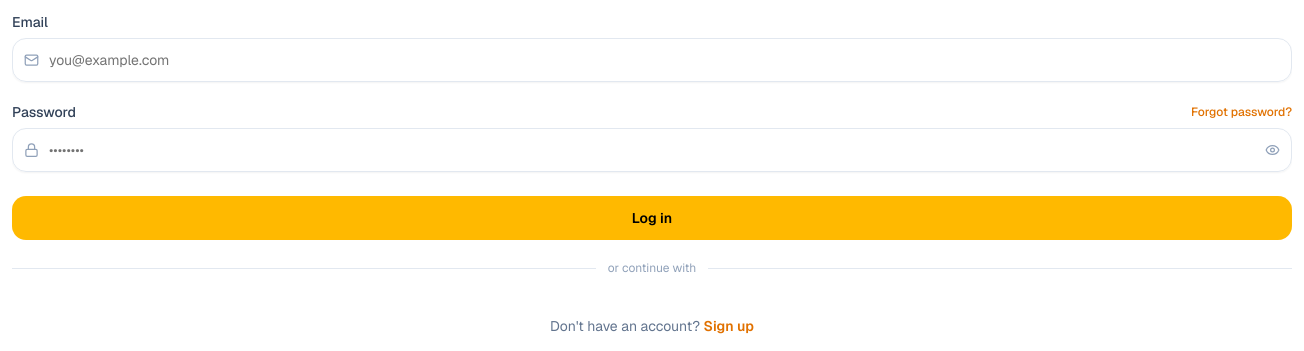
LoginForm › Log in button is disabled while form is submitting
The width and height of the screenshot is (1304, 351).
Type "user@test.com" into the field labelled "Email" at coordinates (652, 60), box [12,38,1292,82]
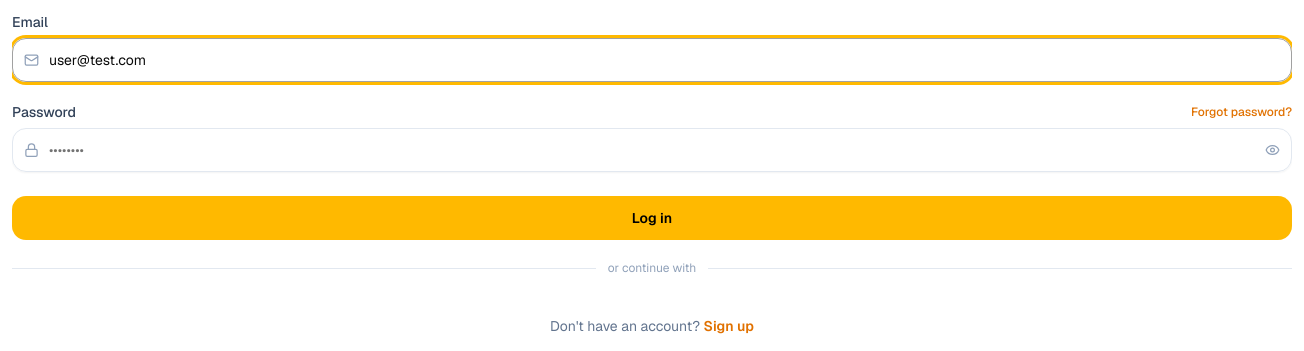
Type "password123" into the password field labelled "Password" at coordinates (652, 150), box [12,128,1292,172]
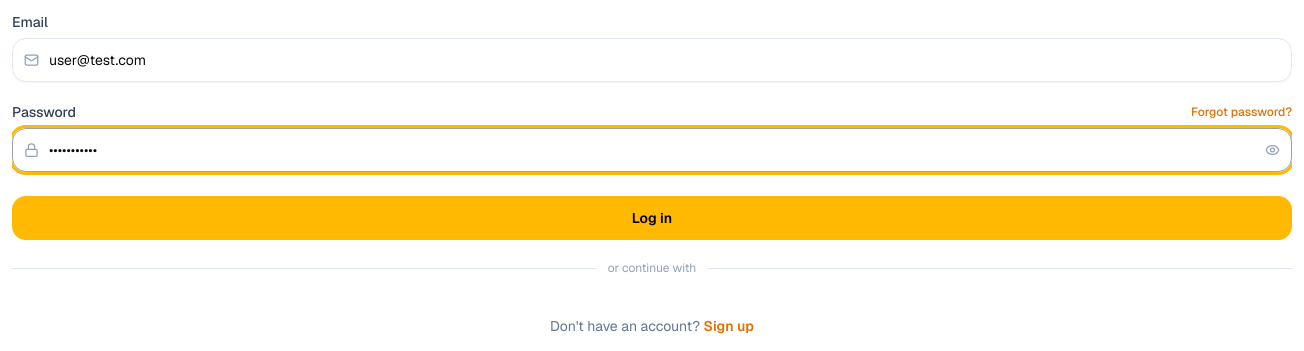
Click the button "Log in" at coordinates (652, 218), box [12,196,1292,240]
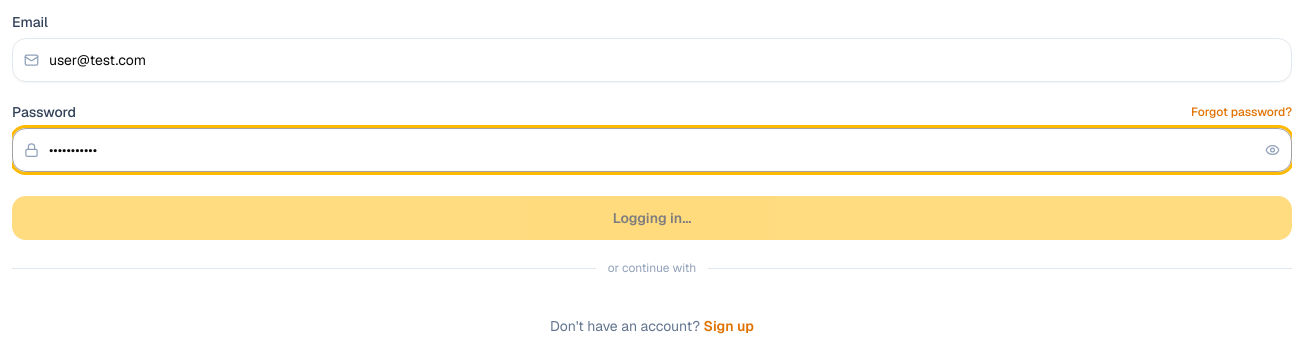
Result: the button "Logging in…" is disabled at [12,196,1292,240]
